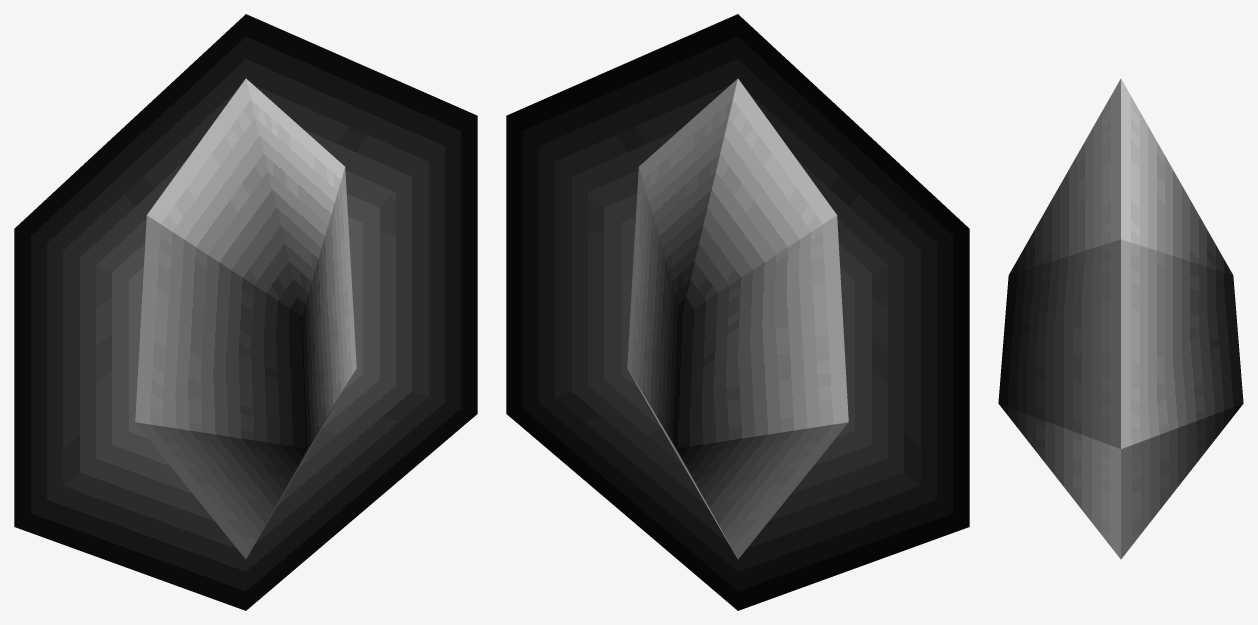
File: ammo.fbx
3 views of the same model, side by side, from view 1: azimuth 30°, elevation 25°; view 2: azimuth 150°, elevation 25°; view 3: azimuth 270°, elevation 25° (orthographic).
Visible parts, largest first — view 1: mesh2, mesh1; view 2: mesh2, mesh1; view 3: mesh1.
Part boxes in pixels (x1,y1,x2,y2): mesh2: (14, 14, 477, 610); mesh1: (135, 78, 356, 559); mesh2: (506, 14, 969, 610); mesh1: (627, 78, 848, 559); mesh1: (998, 79, 1243, 559).
Size of the model in its own units: 53.56 by 65.99 by 24.56.
